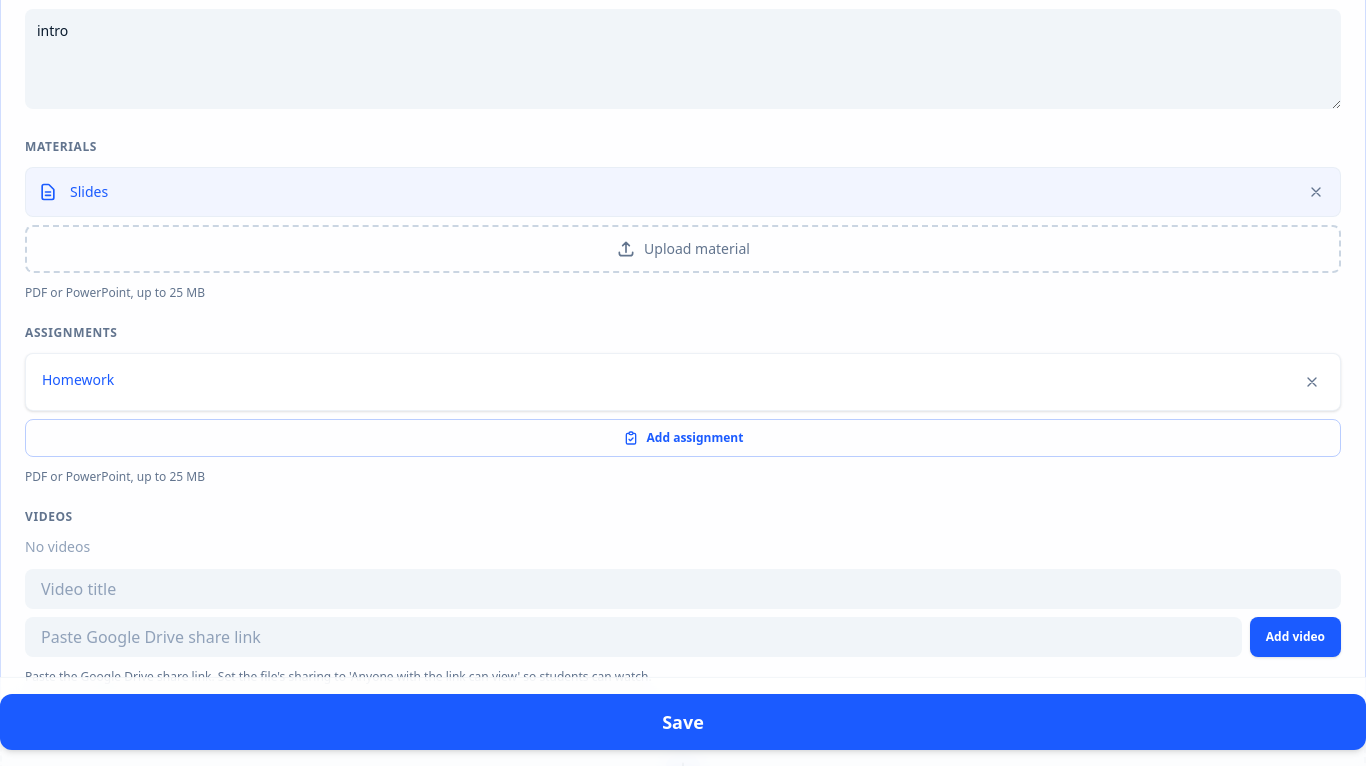
Test: WaveBuilder — edit (seeded) › deleting an existing assignment removes it via the server immediately
The width and height of the screenshot is (1366, 766).
(page scrolled)
Click the button named "Remove assignment": (1312, 382) [1300,370,1324,394]
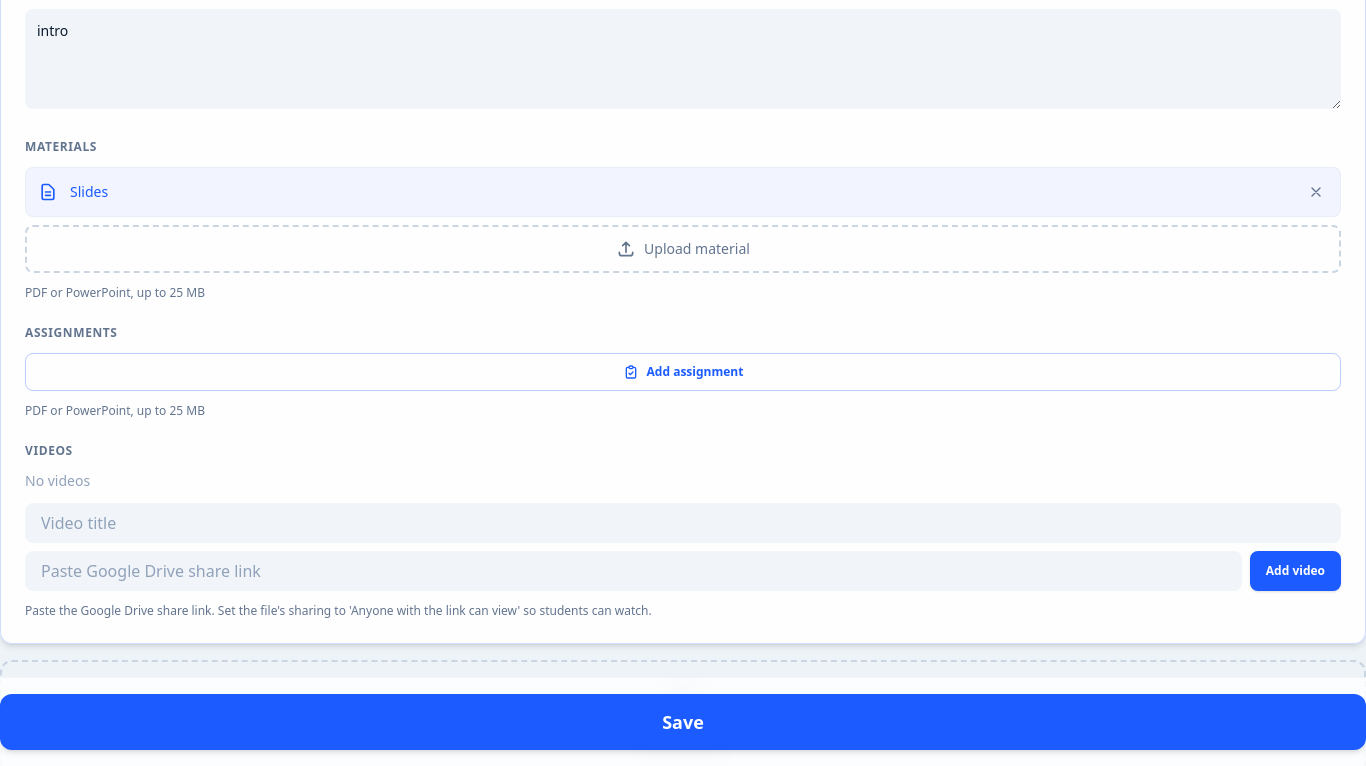
Expected: the link "Homework" is gone
